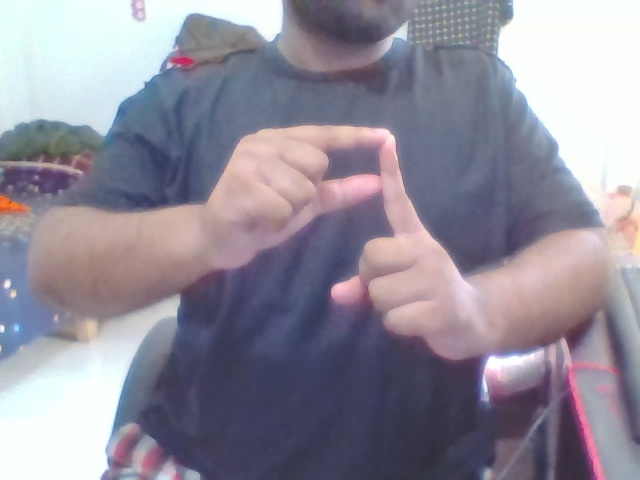P: (203, 116, 495, 386)
